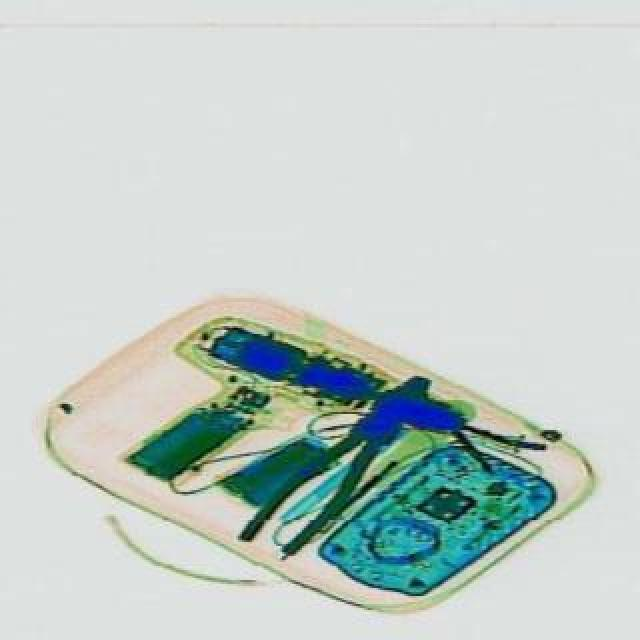wrench: (230, 352, 440, 574)
